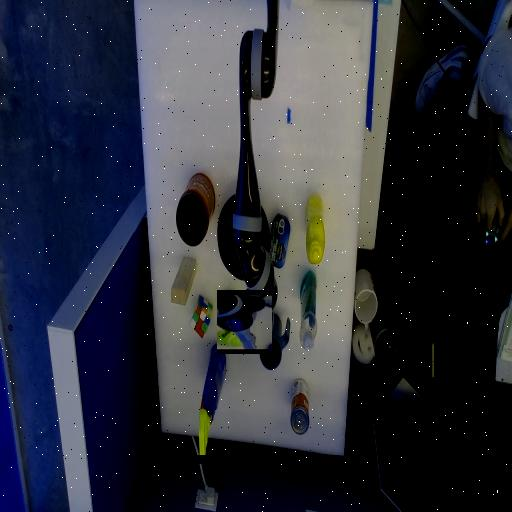bowl: (217, 210, 268, 262)
cleanser: (300, 271, 316, 351)
coffee_can: (175, 190, 214, 228)
jaco: (217, 294, 272, 349)
meat_can: (268, 214, 289, 267)
mug: (258, 326, 289, 356)
mustard_bottle: (306, 195, 324, 263)
rubik: (190, 295, 212, 338)
soup_can: (290, 397, 308, 415)
tennis_ball: (221, 294, 238, 324)
windex: (197, 391, 225, 413)
wooden_block: (171, 258, 195, 304)
workspace: (135, 3, 372, 455)
